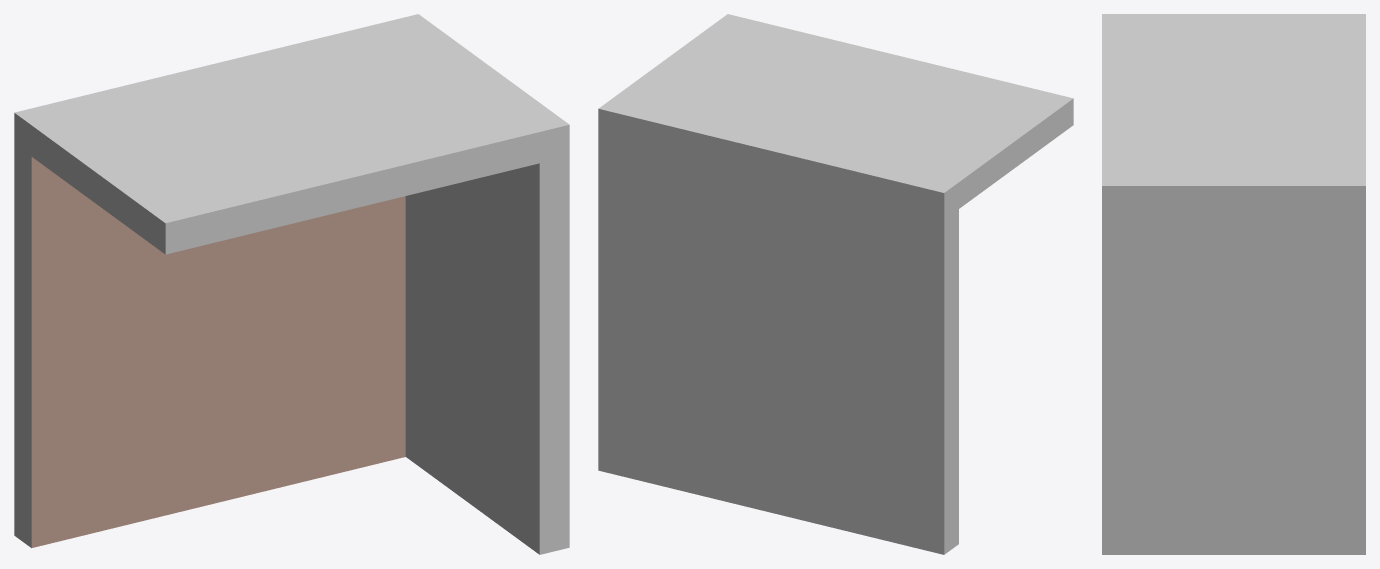
Rendered from room1.gltf.
3 views of the same model, side by side, from view 1: azimuth 30°, elevation 25°; view 2: azimuth 150°, elevation 25°; view 3: azimuth 270°, elevation 25° (orthographic). The views are drawn at different scales.
Parts seen in each view (by area): view 1: Part 1; view 2: Part 1; view 3: Part 1.
Part boxes in pixels (bbox=[...]): Part 1: bbox=[14, 14, 569, 554]; Part 1: bbox=[598, 14, 1073, 554]; Part 1: bbox=[1102, 14, 1365, 554].
Size of the model in its own units: 0.2743 by 0.2743 by 0.1778.
